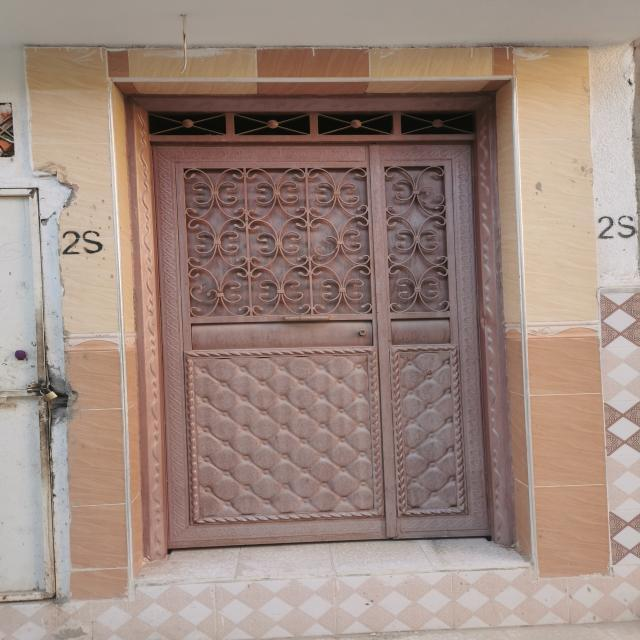door: (126, 110, 509, 555)
